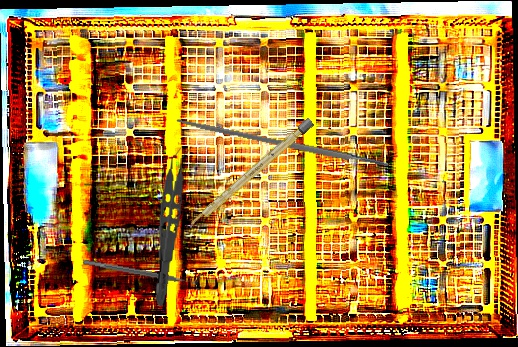Fixation Ring: (81, 252, 205, 292)
Scalpel Handle: (186, 117, 315, 231), (175, 116, 391, 171)
Tissue Forceps: (151, 145, 193, 308)
